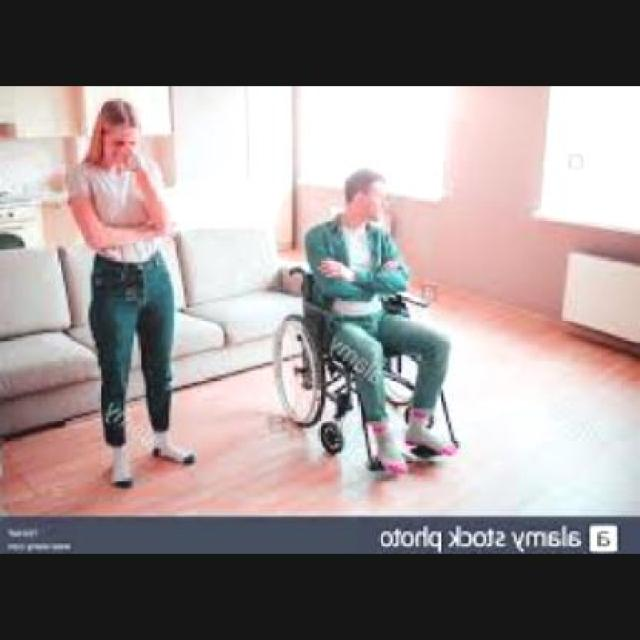wheelchairs: (268, 265, 463, 474)
